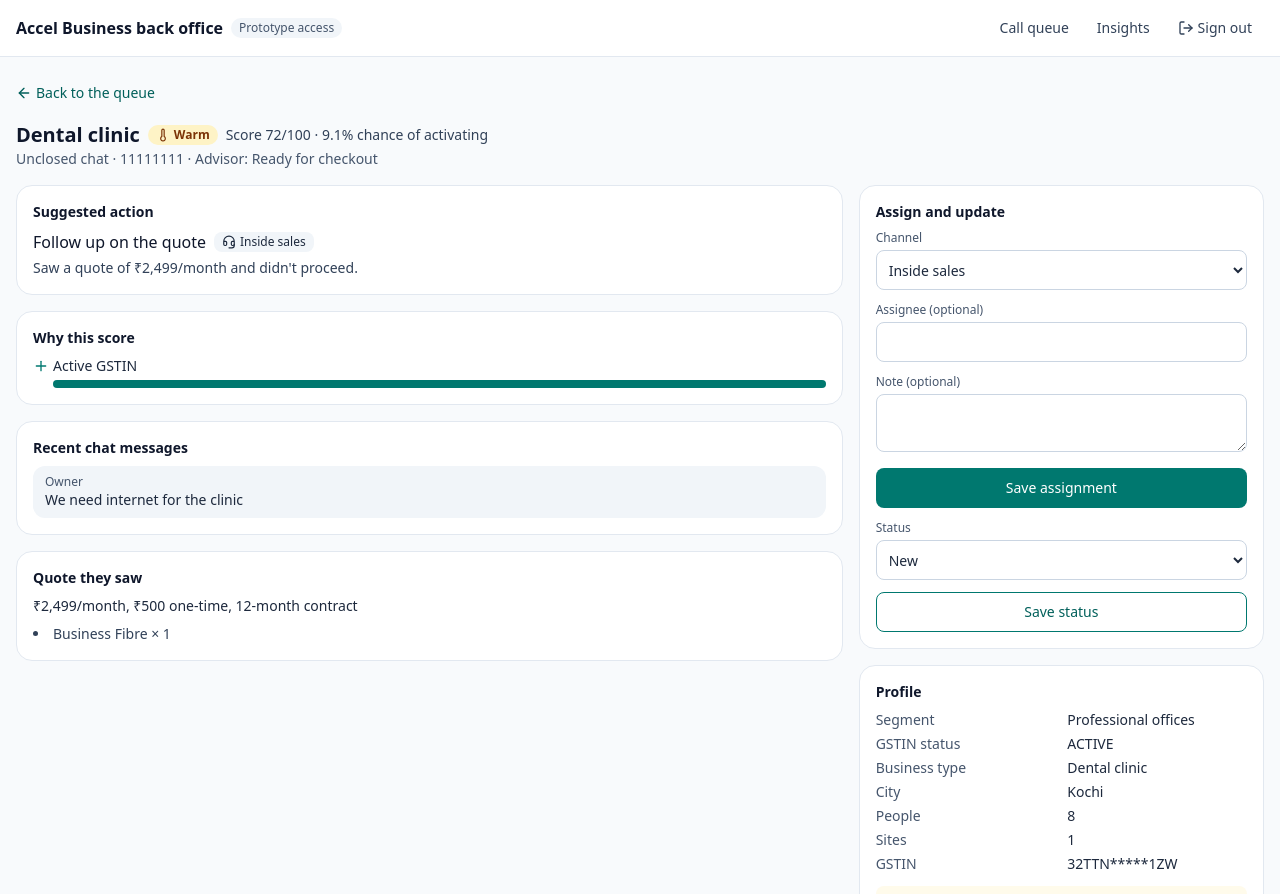
Test: lead detail › saves an assignment and shows it in the history
Select "Channel partner" in the dropdown labelled "Channel" at (1061, 270), box [876,250,1247,290]
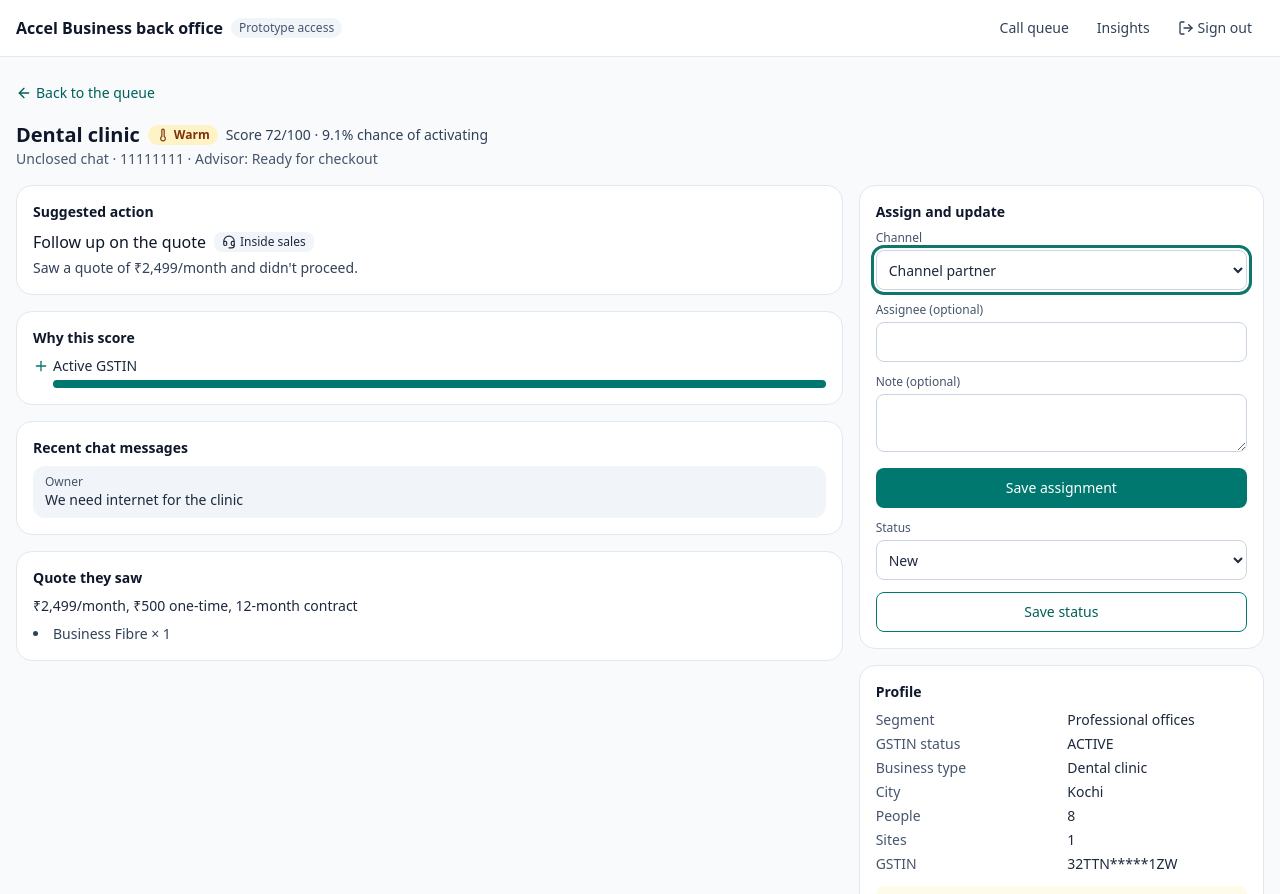
Type "Priya" into the field labelled "Assignee (optional)".
click(1061, 342); type("Priya")  # box [876,322,1247,362]
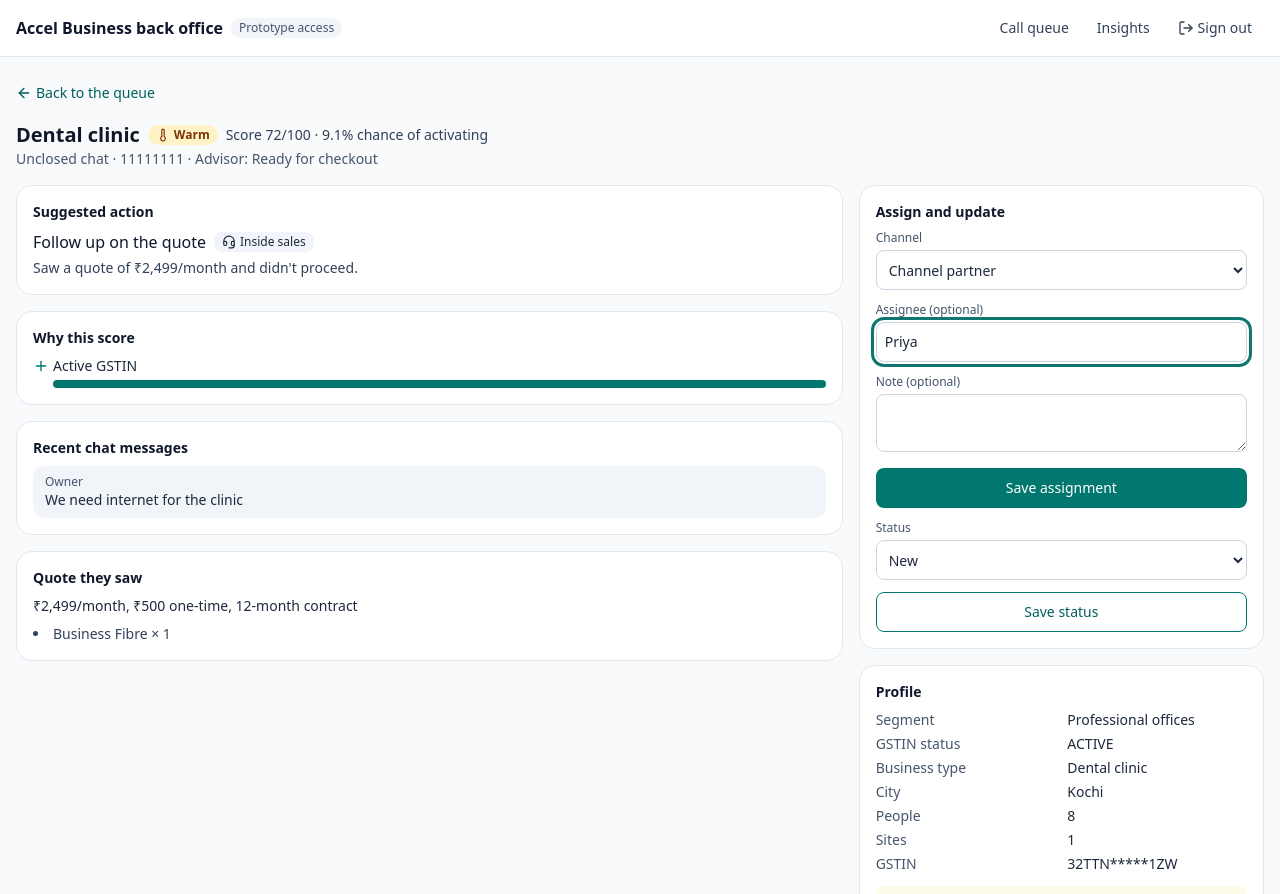
Type "Call after 5" into the text box labelled "Note (optional)".
click(1061, 423); type("Call after 5")  # box [876,394,1247,452]
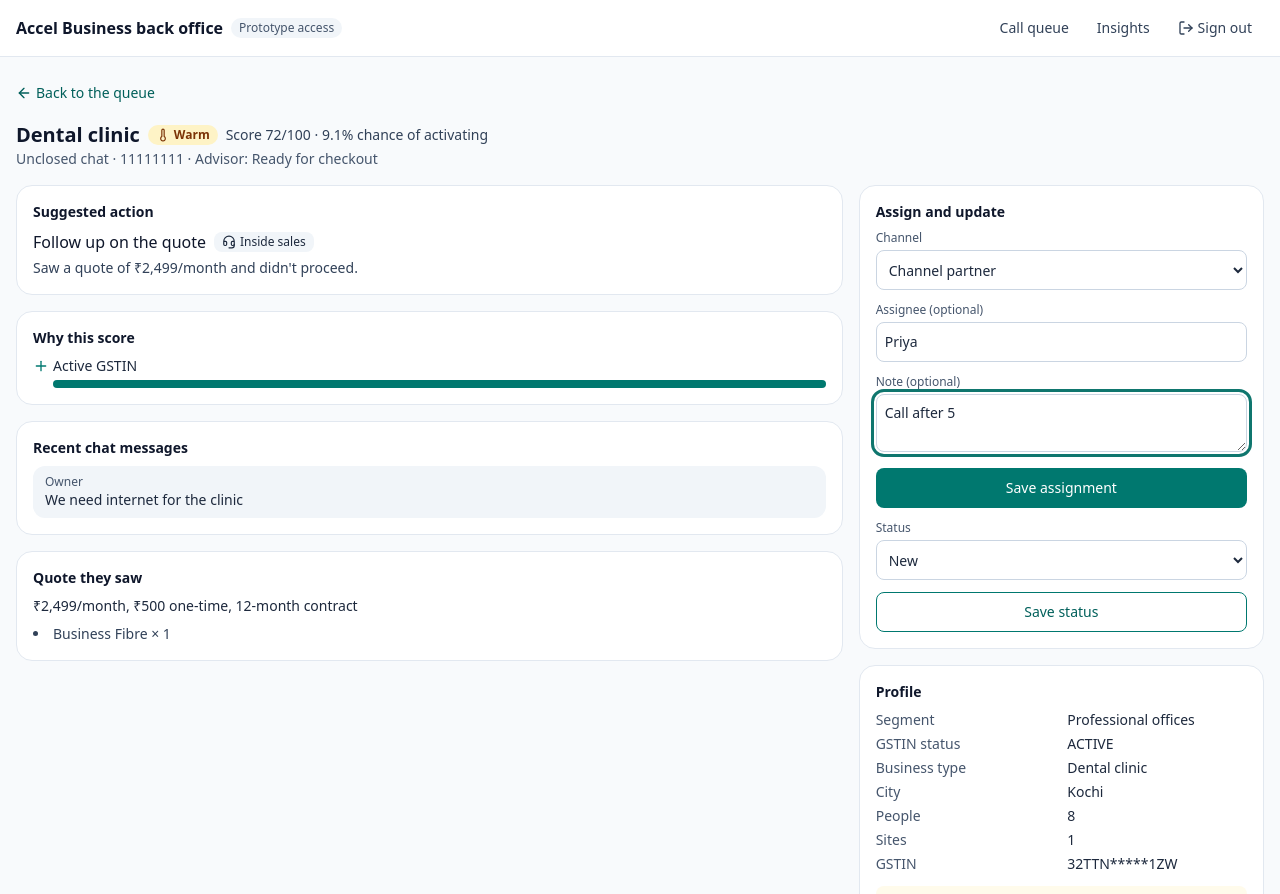
Click the button "Save assignment".
click(1061, 488)  # box [876,468,1247,508]
(page scrolled)
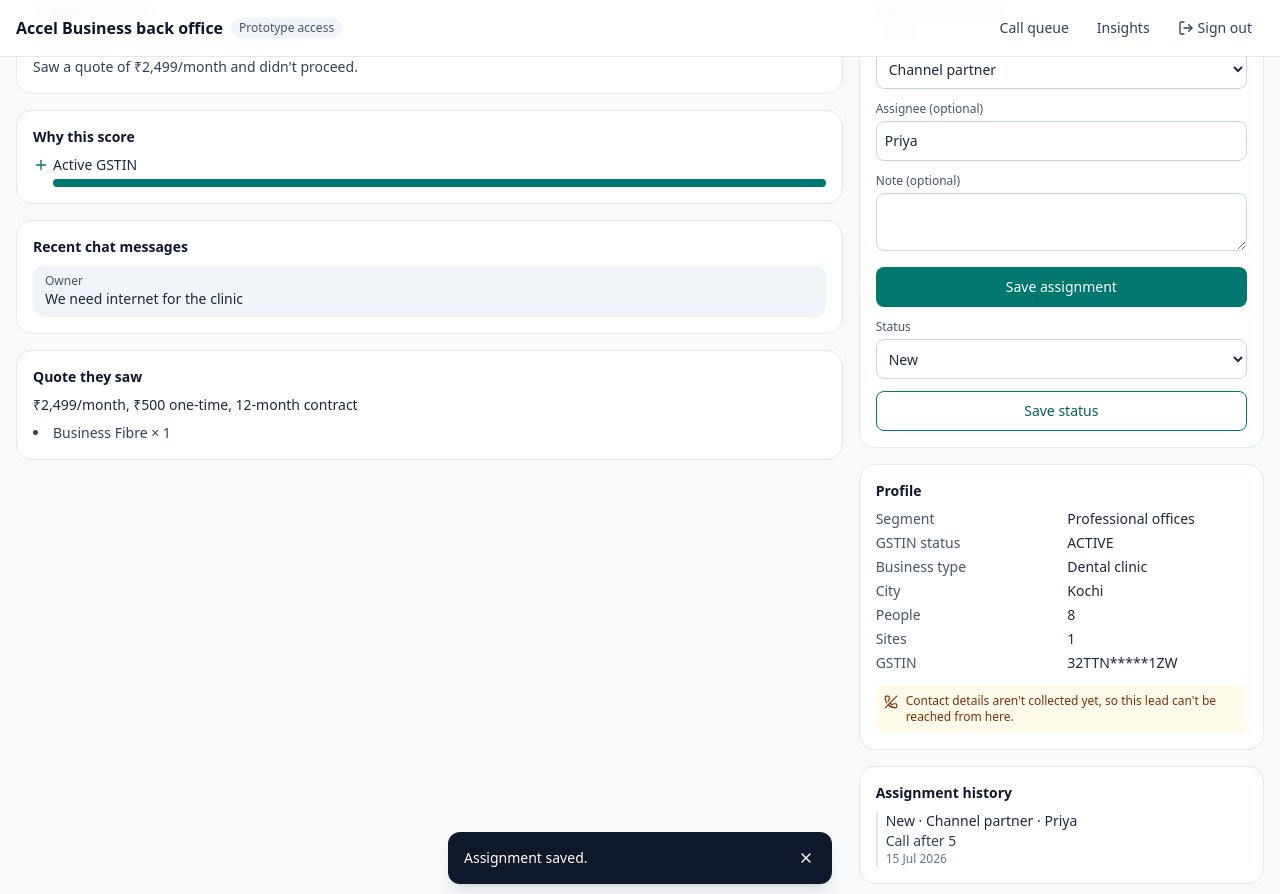
Expected: the text "Assignment saved." is shown, [464,848,588,867]
Expected: the text "Call after 5" is shown, [886,831,956,850]
